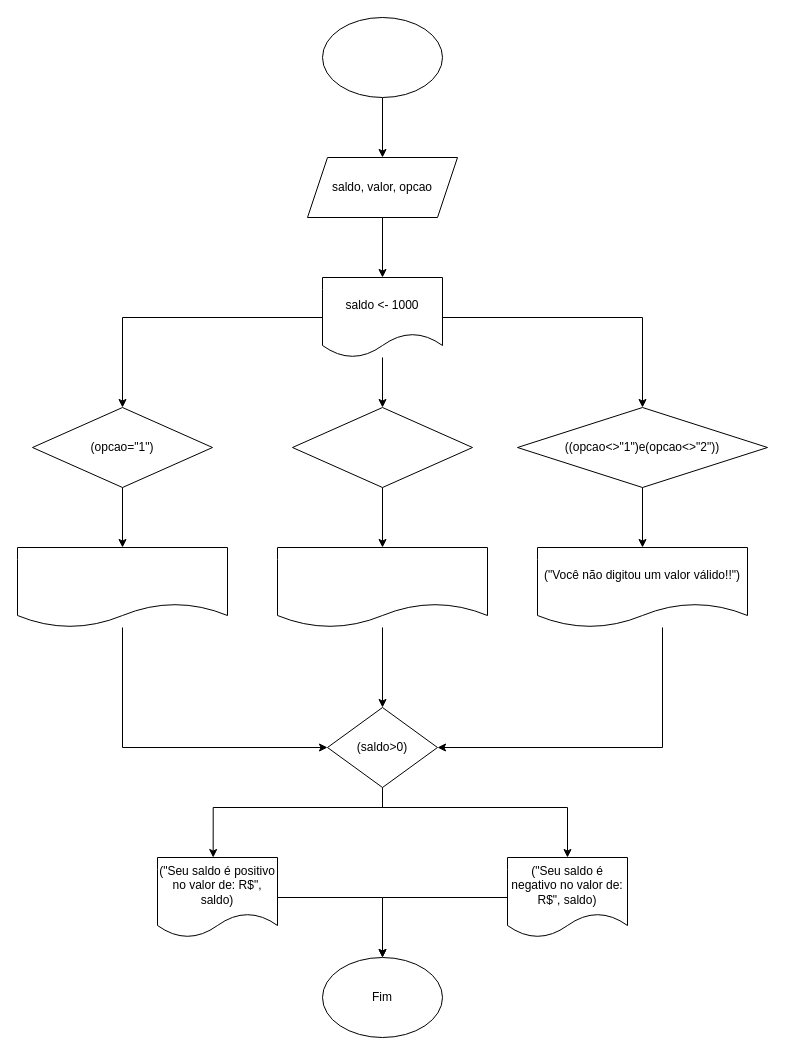
This 785x1055 diagram has some shape labels left out. The box of each missing label's shape, as (x1, y1, x2, y2) in pixels:
("Quanto você quer depositar? ") saldo <- saldo + valor: (16, 546, 228, 628)
("Quanto você quer sacar?") saldo <- saldo - valor: (276, 546, 488, 628)
(opcao="2"): (292, 406, 472, 488)
Início: (322, 16, 442, 98)
